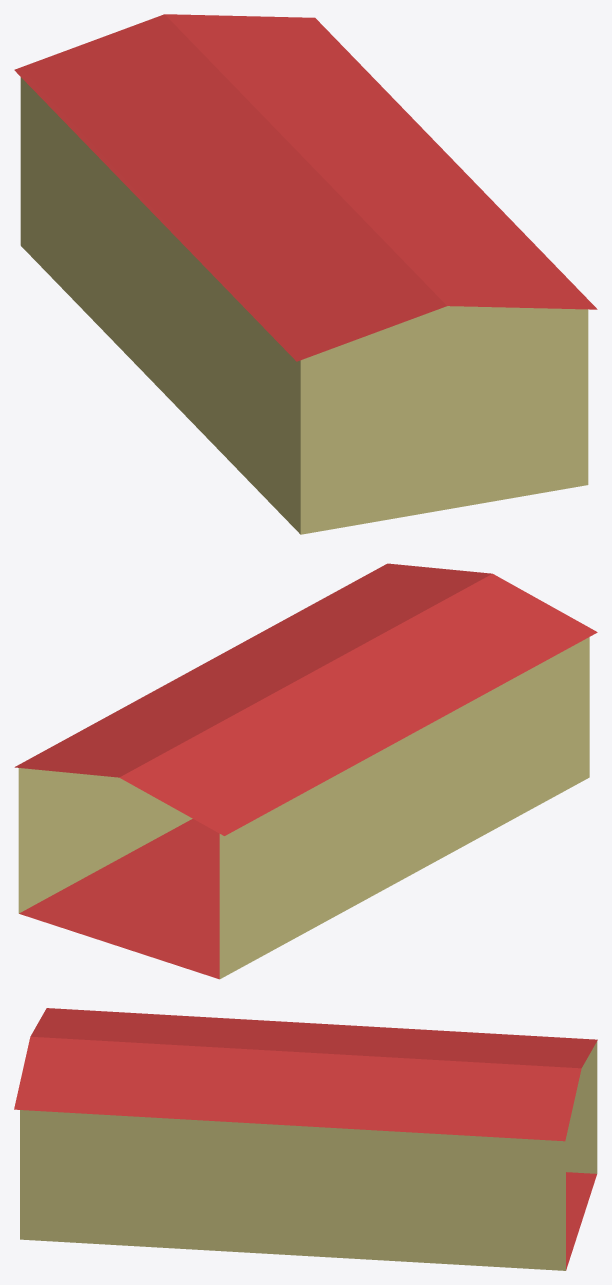
The picture shows the model from 3 angles, top to bottom: view 1: azimuth 30°, elevation 25°; view 2: azimuth 150°, elevation 25°; view 3: azimuth 270°, elevation 25°; orthographic projection. The views are drawn at different scales.
Size of the model in its own units: 14.47 by 26.79 by 7.8.
